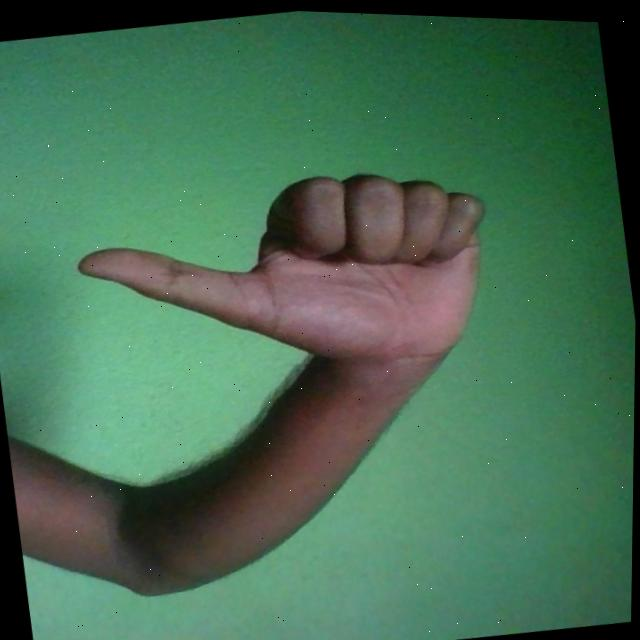Dislike: (68, 145, 506, 406)
